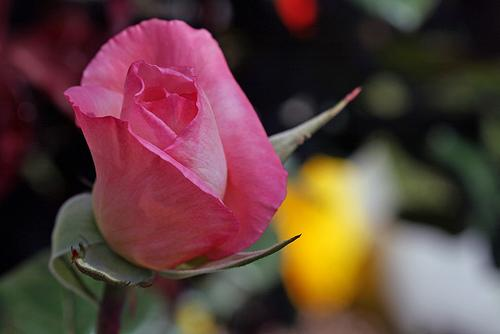Rose: (46, 15, 292, 270)
